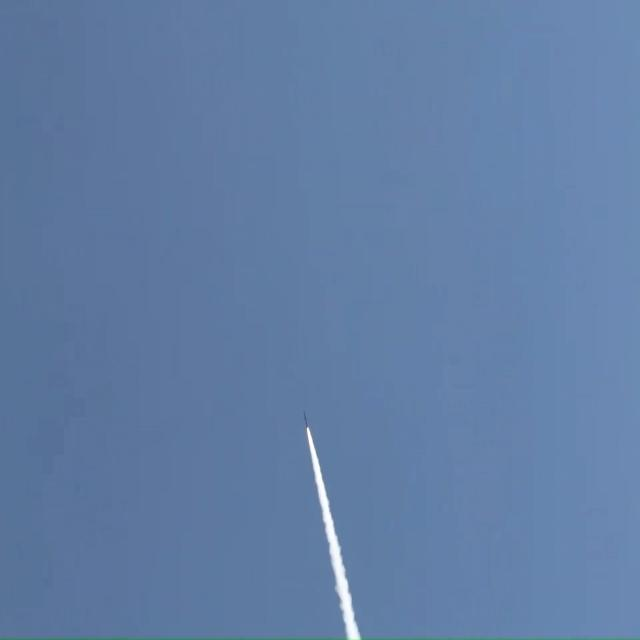Rocket: (303, 409, 309, 429)
